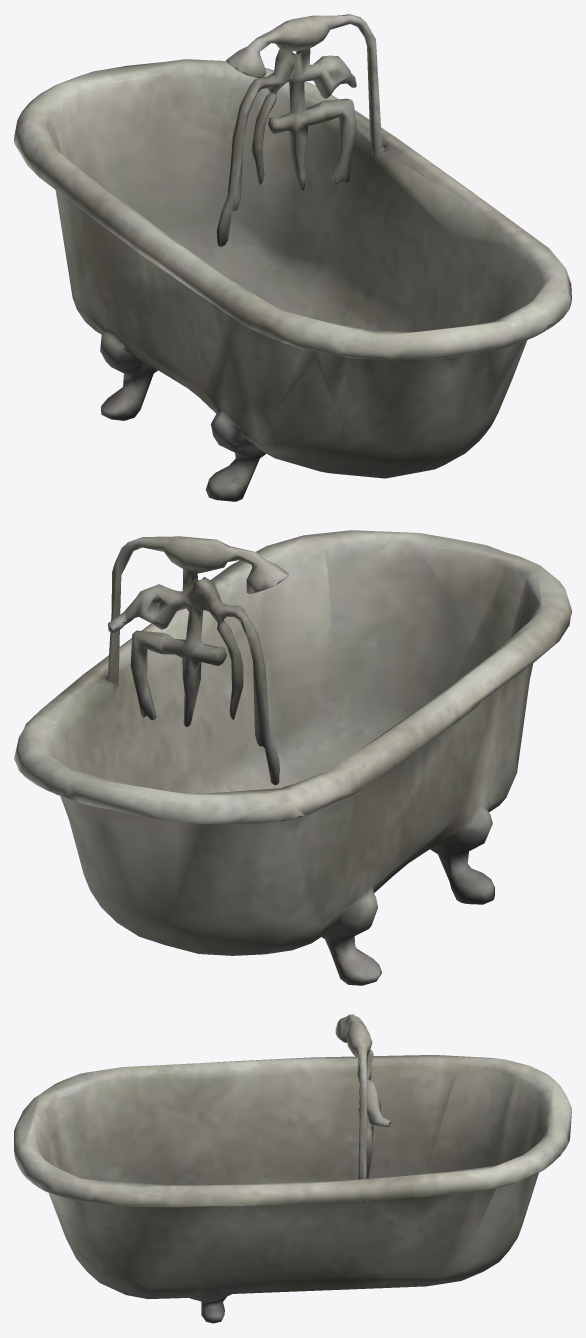
The model's file is plain-white-painted-bathtub-v001.glb.
3 renders of one model, top to bottom at view 1: azimuth 30°, elevation 25°; view 2: azimuth 150°, elevation 25°; view 3: azimuth 270°, elevation 25°, orthographic. The views are drawn at different scales.
Parts seen in each view (by area): view 1: plain-white-painted-bathtub; view 2: plain-white-painted-bathtub; view 3: plain-white-painted-bathtub.
Part boxes in pixels (<box>): plain-white-painted-bathtub: <box>14,14,571,501</box>; plain-white-painted-bathtub: <box>14,530,571,985</box>; plain-white-painted-bathtub: <box>14,1014,571,1323</box>.
Size of the model in its own units: 0.7177 by 0.7986 by 1.35.
Materials: 1 (1 with a texture image).
